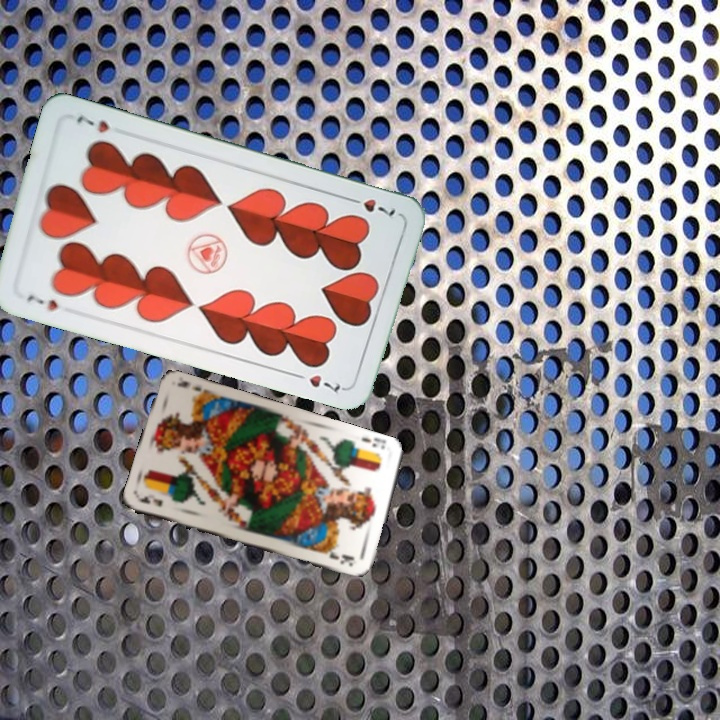EK: (357, 433, 388, 452), (136, 492, 165, 510)
H7: (343, 193, 398, 219), (23, 290, 61, 315)
